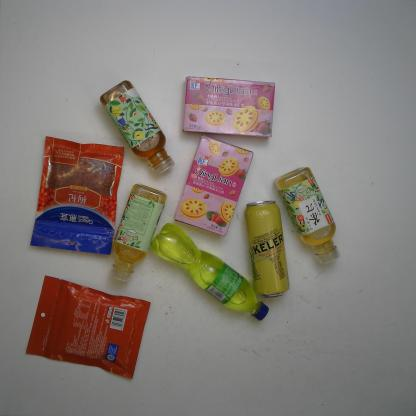Alcohol: (244, 199, 291, 300)
Dessert: (172, 134, 256, 238), (181, 75, 278, 140)
Dried Fruit: (23, 273, 152, 381), (29, 133, 125, 257)
Drink: (148, 220, 270, 324), (98, 77, 176, 177), (272, 165, 341, 266), (107, 182, 169, 285)
